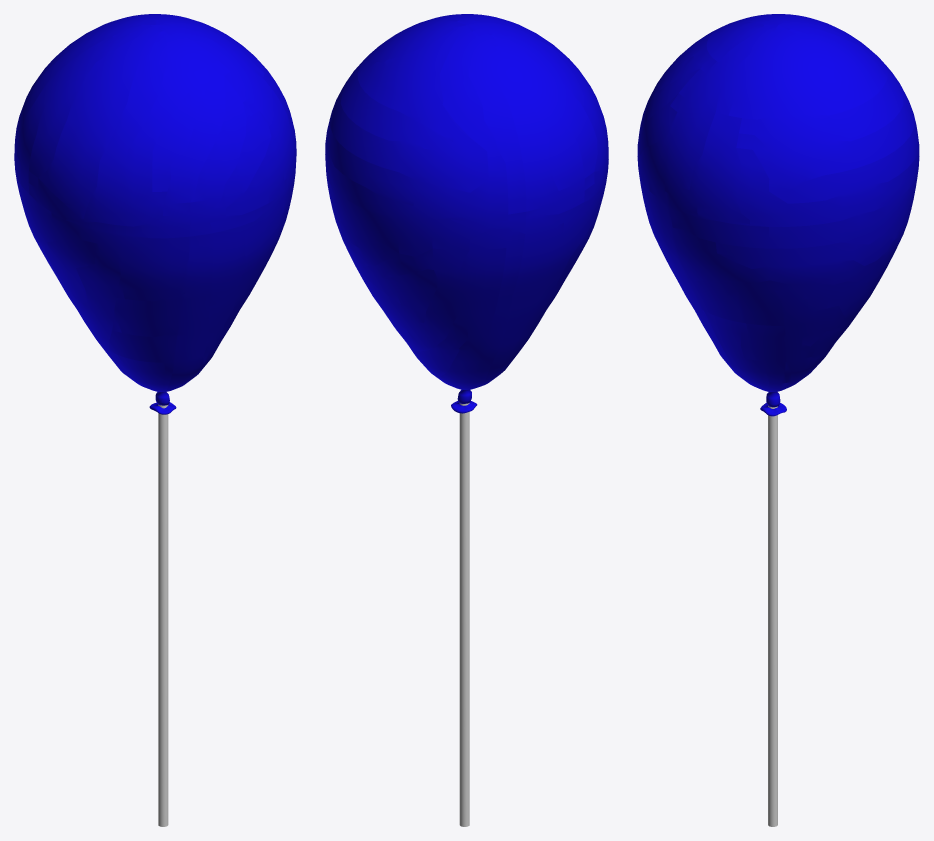
The model's file is one balloon.fbx.
3 views of the same model, side by side, from view 1: azimuth 30°, elevation 25°; view 2: azimuth 150°, elevation 25°; view 3: azimuth 270°, elevation 25° (orthographic).
Parts seen in each view (by area): view 1: Sphere.014, Cylinder.013; view 2: Sphere.014, Cylinder.013; view 3: Sphere.014, Cylinder.013.
Boxes of the visible parts, x1,y1,x2,y2 form: Sphere.014: (14, 14, 296, 414); Cylinder.013: (158, 404, 168, 826); Sphere.014: (325, 14, 608, 413); Cylinder.013: (459, 403, 469, 826); Sphere.014: (637, 14, 919, 416); Cylinder.013: (768, 406, 777, 826).
Size of the model in its own units: 191 by 597 by 191.
